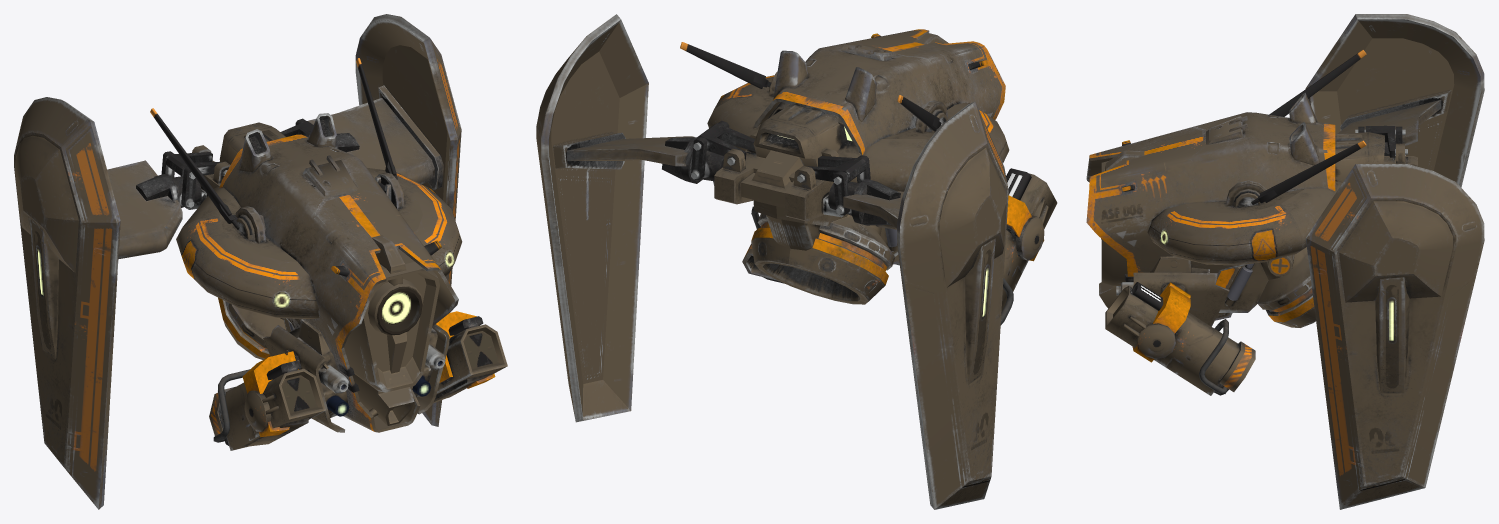
File: supportDrone.glb
The picture shows the model from 3 angles, left to right: view 1: azimuth 30°, elevation 25°; view 2: azimuth 150°, elevation 25°; view 3: azimuth 270°, elevation 25°; orthographic projection. The views are drawn at different scales.
Visible parts, largest first — view 1: korpus_low; view 2: korpus_low; view 3: korpus_low.
Boxes of the visible parts, box(x1,y1,x2,y2) form: korpus_low: box(14, 14, 507, 509); korpus_low: box(536, 14, 1057, 509); korpus_low: box(1086, 14, 1484, 509).
Size of the model in its own units: 1.67 by 1.5 by 1.56.
1 material, 1 textured.
